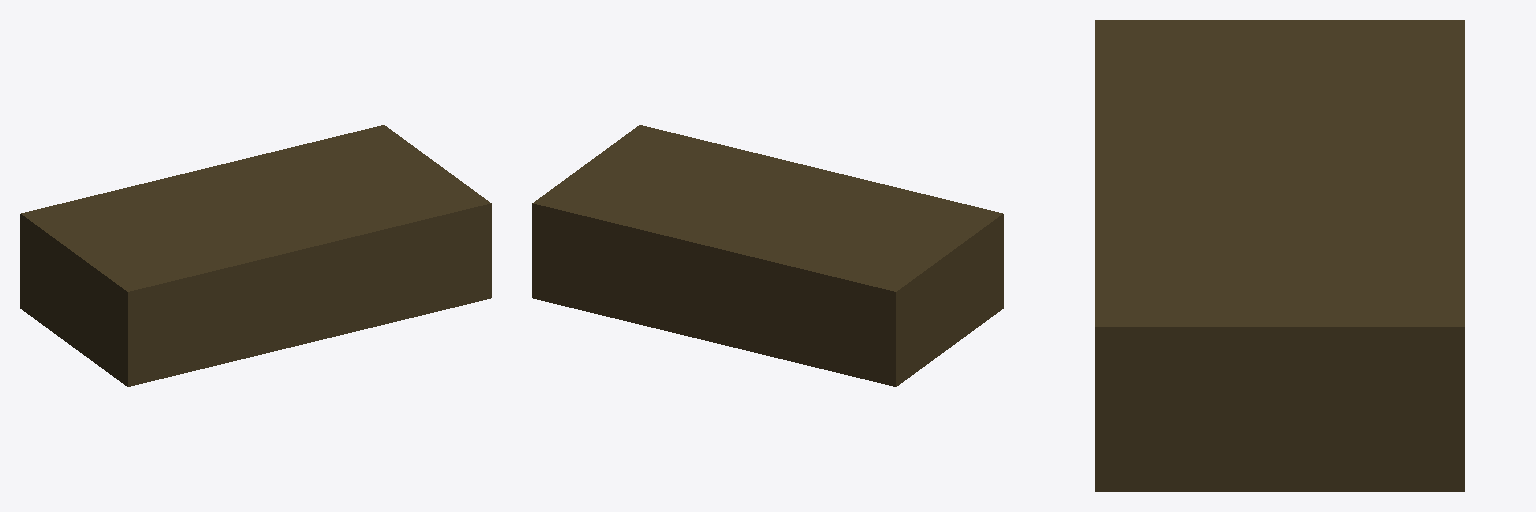
URDF robot description (foundation):
<?xml version="1.0"?>
<robot name="foundation">
  <link name="base_link">
    <visual>
      <origin xyz="0 0 0" rpy="0 0 0" />
      <geometry>
        <mesh filename="foundation_decimated.obj" />      
      </geometry>
      <material name="tan">
        <color rgba="0.35 0.3 0.2 1" />
      </material>
    </visual>
    <collision>
      <origin xyz="0 0 0" rpy="0 0 0" />
      <geometry>
        <mesh filename="foundation_decimated.obj" />
      </geometry>
    </collision>
  </link>
</robot>

--- Facts derived from the render (not from the file) ---
Views: 3 orthographic renders of the robot side by side, from view 1: azimuth 30°, elevation 25°; view 2: azimuth 150°, elevation 25°; view 3: azimuth 270°, elevation 25°.
Model foundation with 1 links and 0 joints (none), rooted at base_link, posed all joints at 0.
Visible links, largest first — view 1: base_link; view 2: base_link; view 3: base_link.
Boxes of the visible links, x1,y1,x2,y2 form: base_link: [20, 125, 491, 386]; base_link: [532, 125, 1003, 386]; base_link: [1095, 20, 1464, 491].
Size in the robot's own frame: 50.69 by 25.9 by 12.67 metres.
1 mesh visuals loaded from 1 distinct referenced files (1 OBJ).
